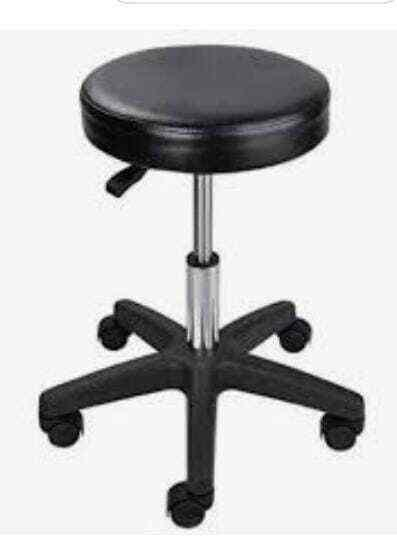stool: (37, 43, 365, 528)
